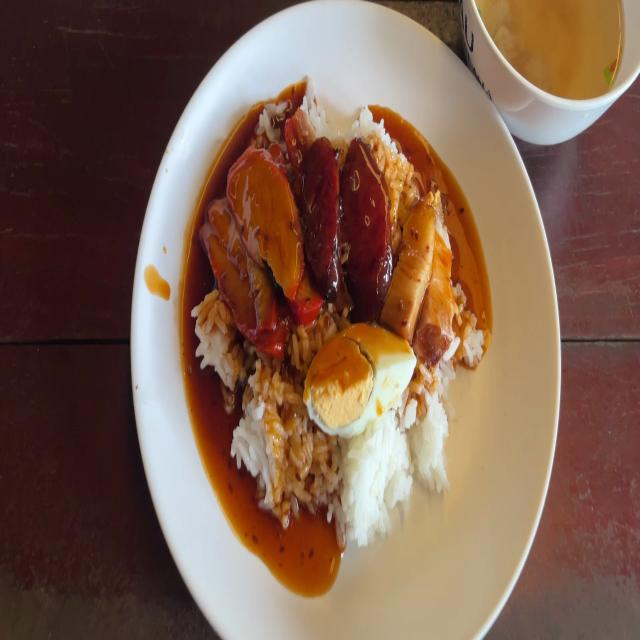red_pork_and_crispy_pork: (302, 320, 412, 432)
stir_fried_basil: (304, 138, 398, 292), (344, 138, 386, 297), (302, 133, 339, 297)
